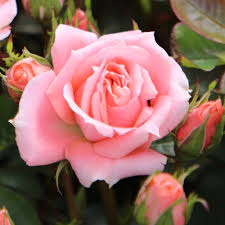lale: (13, 19, 193, 197), (174, 82, 225, 164), (124, 164, 189, 225), (4, 47, 61, 113)
